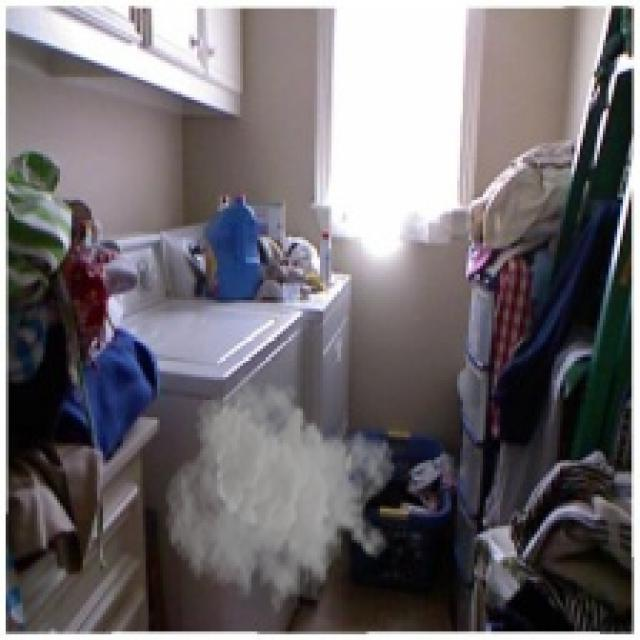Smoke: (162, 371, 398, 623)
